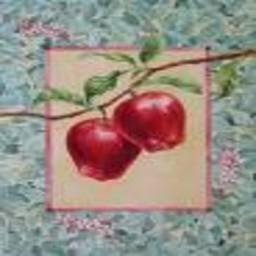apple: (65, 117, 140, 182), (114, 92, 186, 154)
